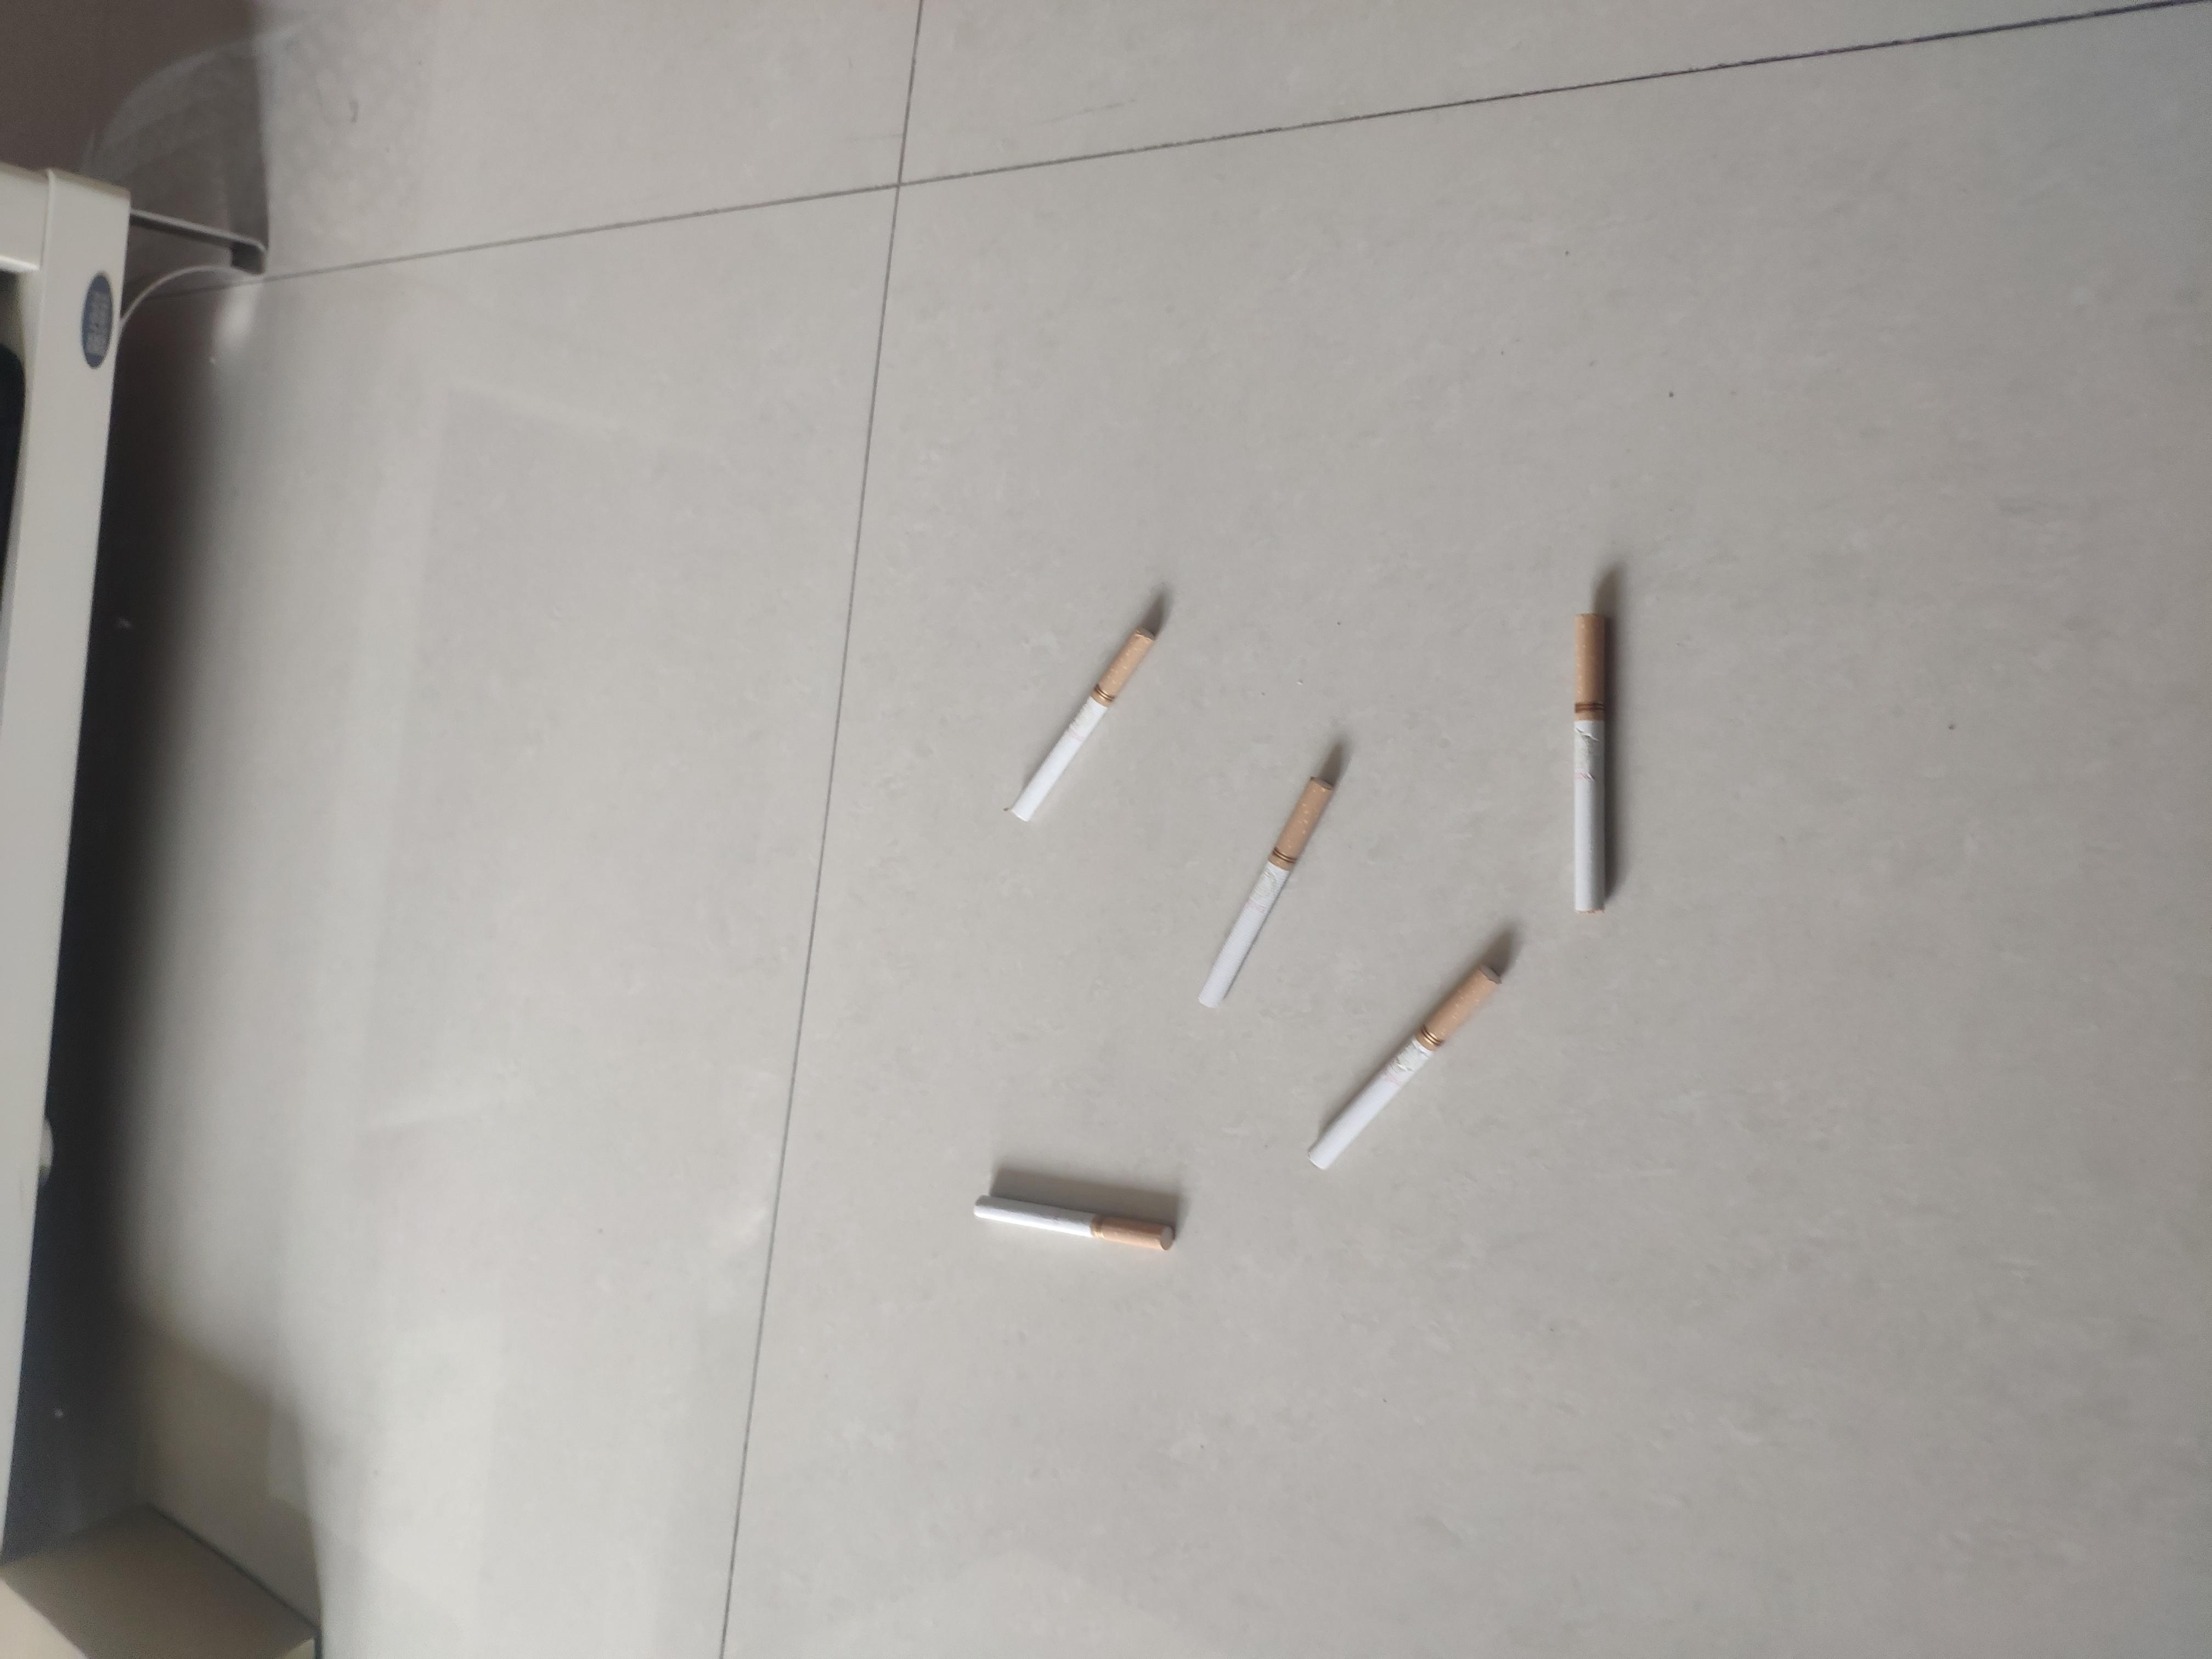smoke: (651, 979, 930, 1126), (867, 899, 1181, 1000), (1116, 760, 1383, 868), (547, 730, 622, 880), (993, 1180, 1397, 1206)
